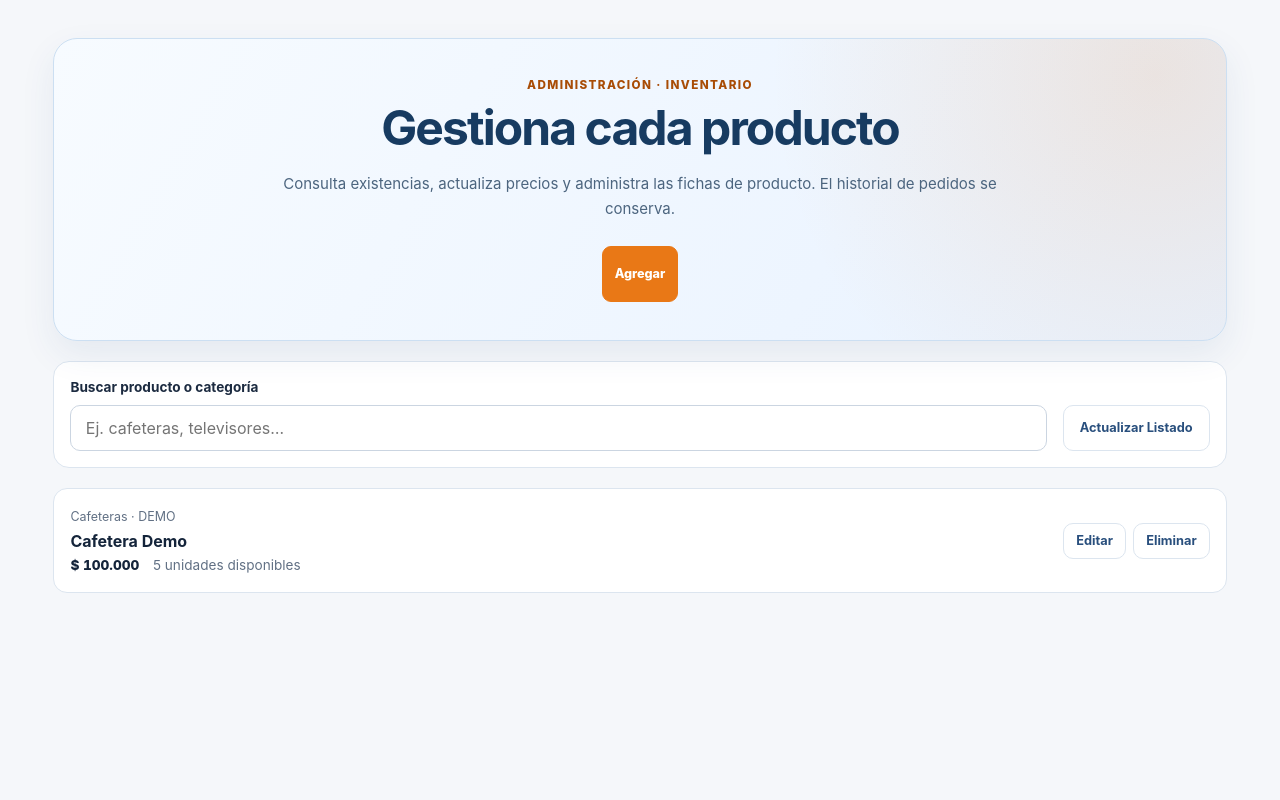
AdminInventory › requires explicit deletion confirmation
This screenshot has width=1280, height=800.
Step 1. Click the button "Eliminar" → coordinates (1171, 540), box [1133,522,1210,558]
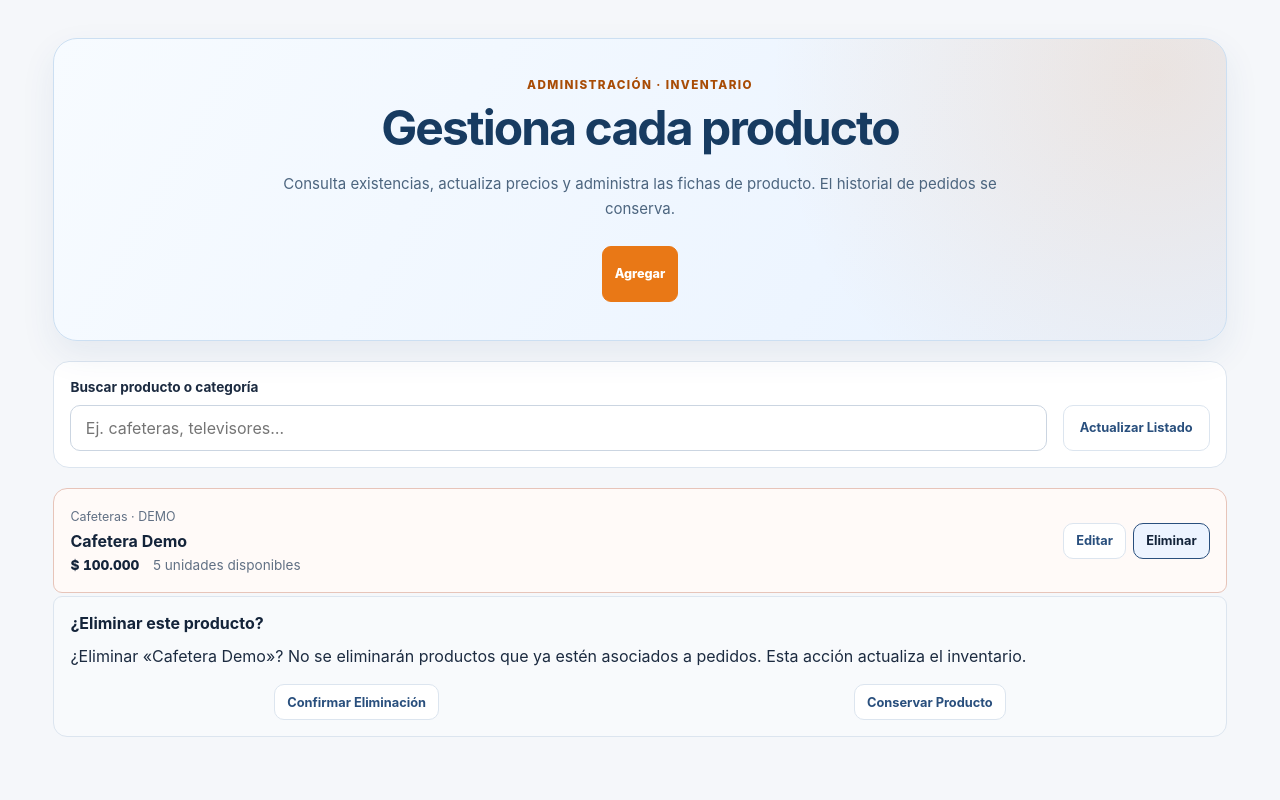
Step 2. Click the button "Conservar Producto" → coordinates (930, 702), box [854,684,1006,720]
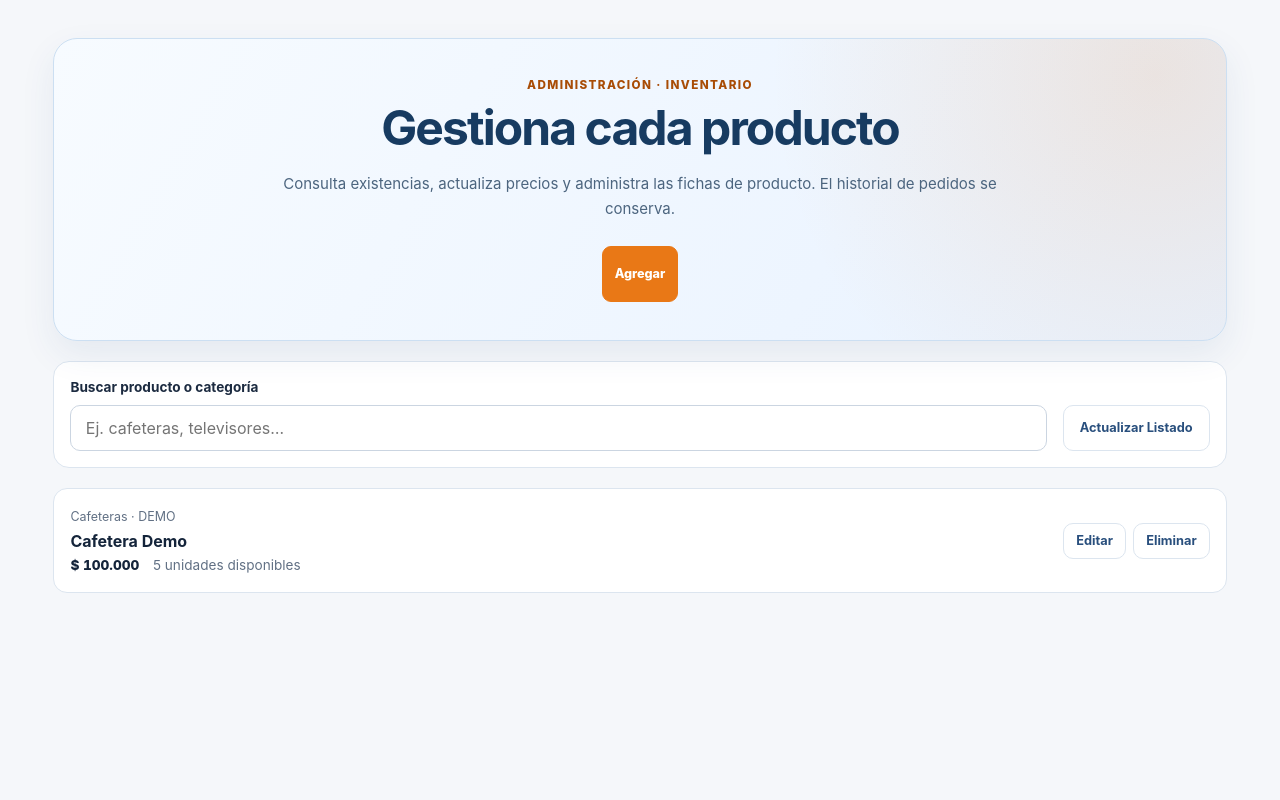
Step 3. Click the button "Eliminar" → coordinates (1171, 540), box [1133,522,1210,558]
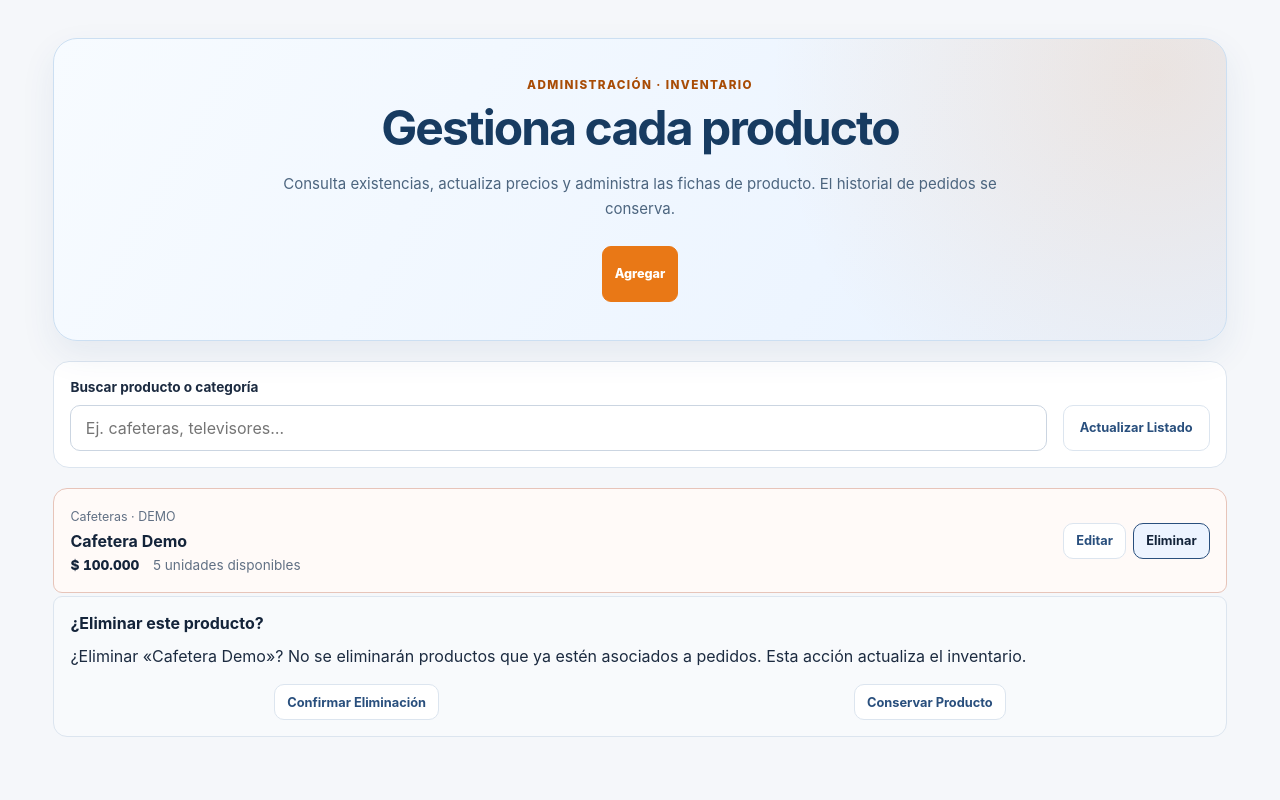
Step 4. Click the button "Confirmar Eliminación" → coordinates (357, 702), box [274,684,439,720]
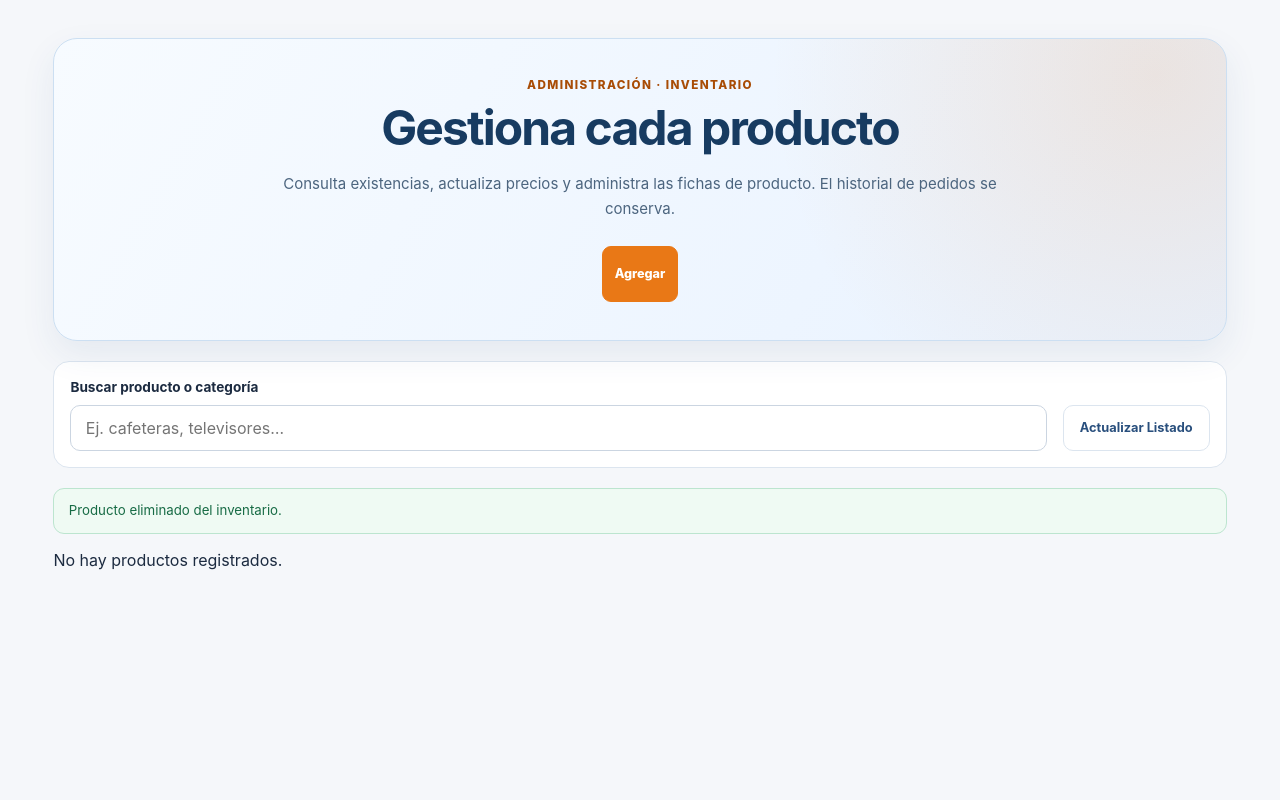
Expected: the message "Producto eliminado del inventario." is shown, [53,488,1227,534]
